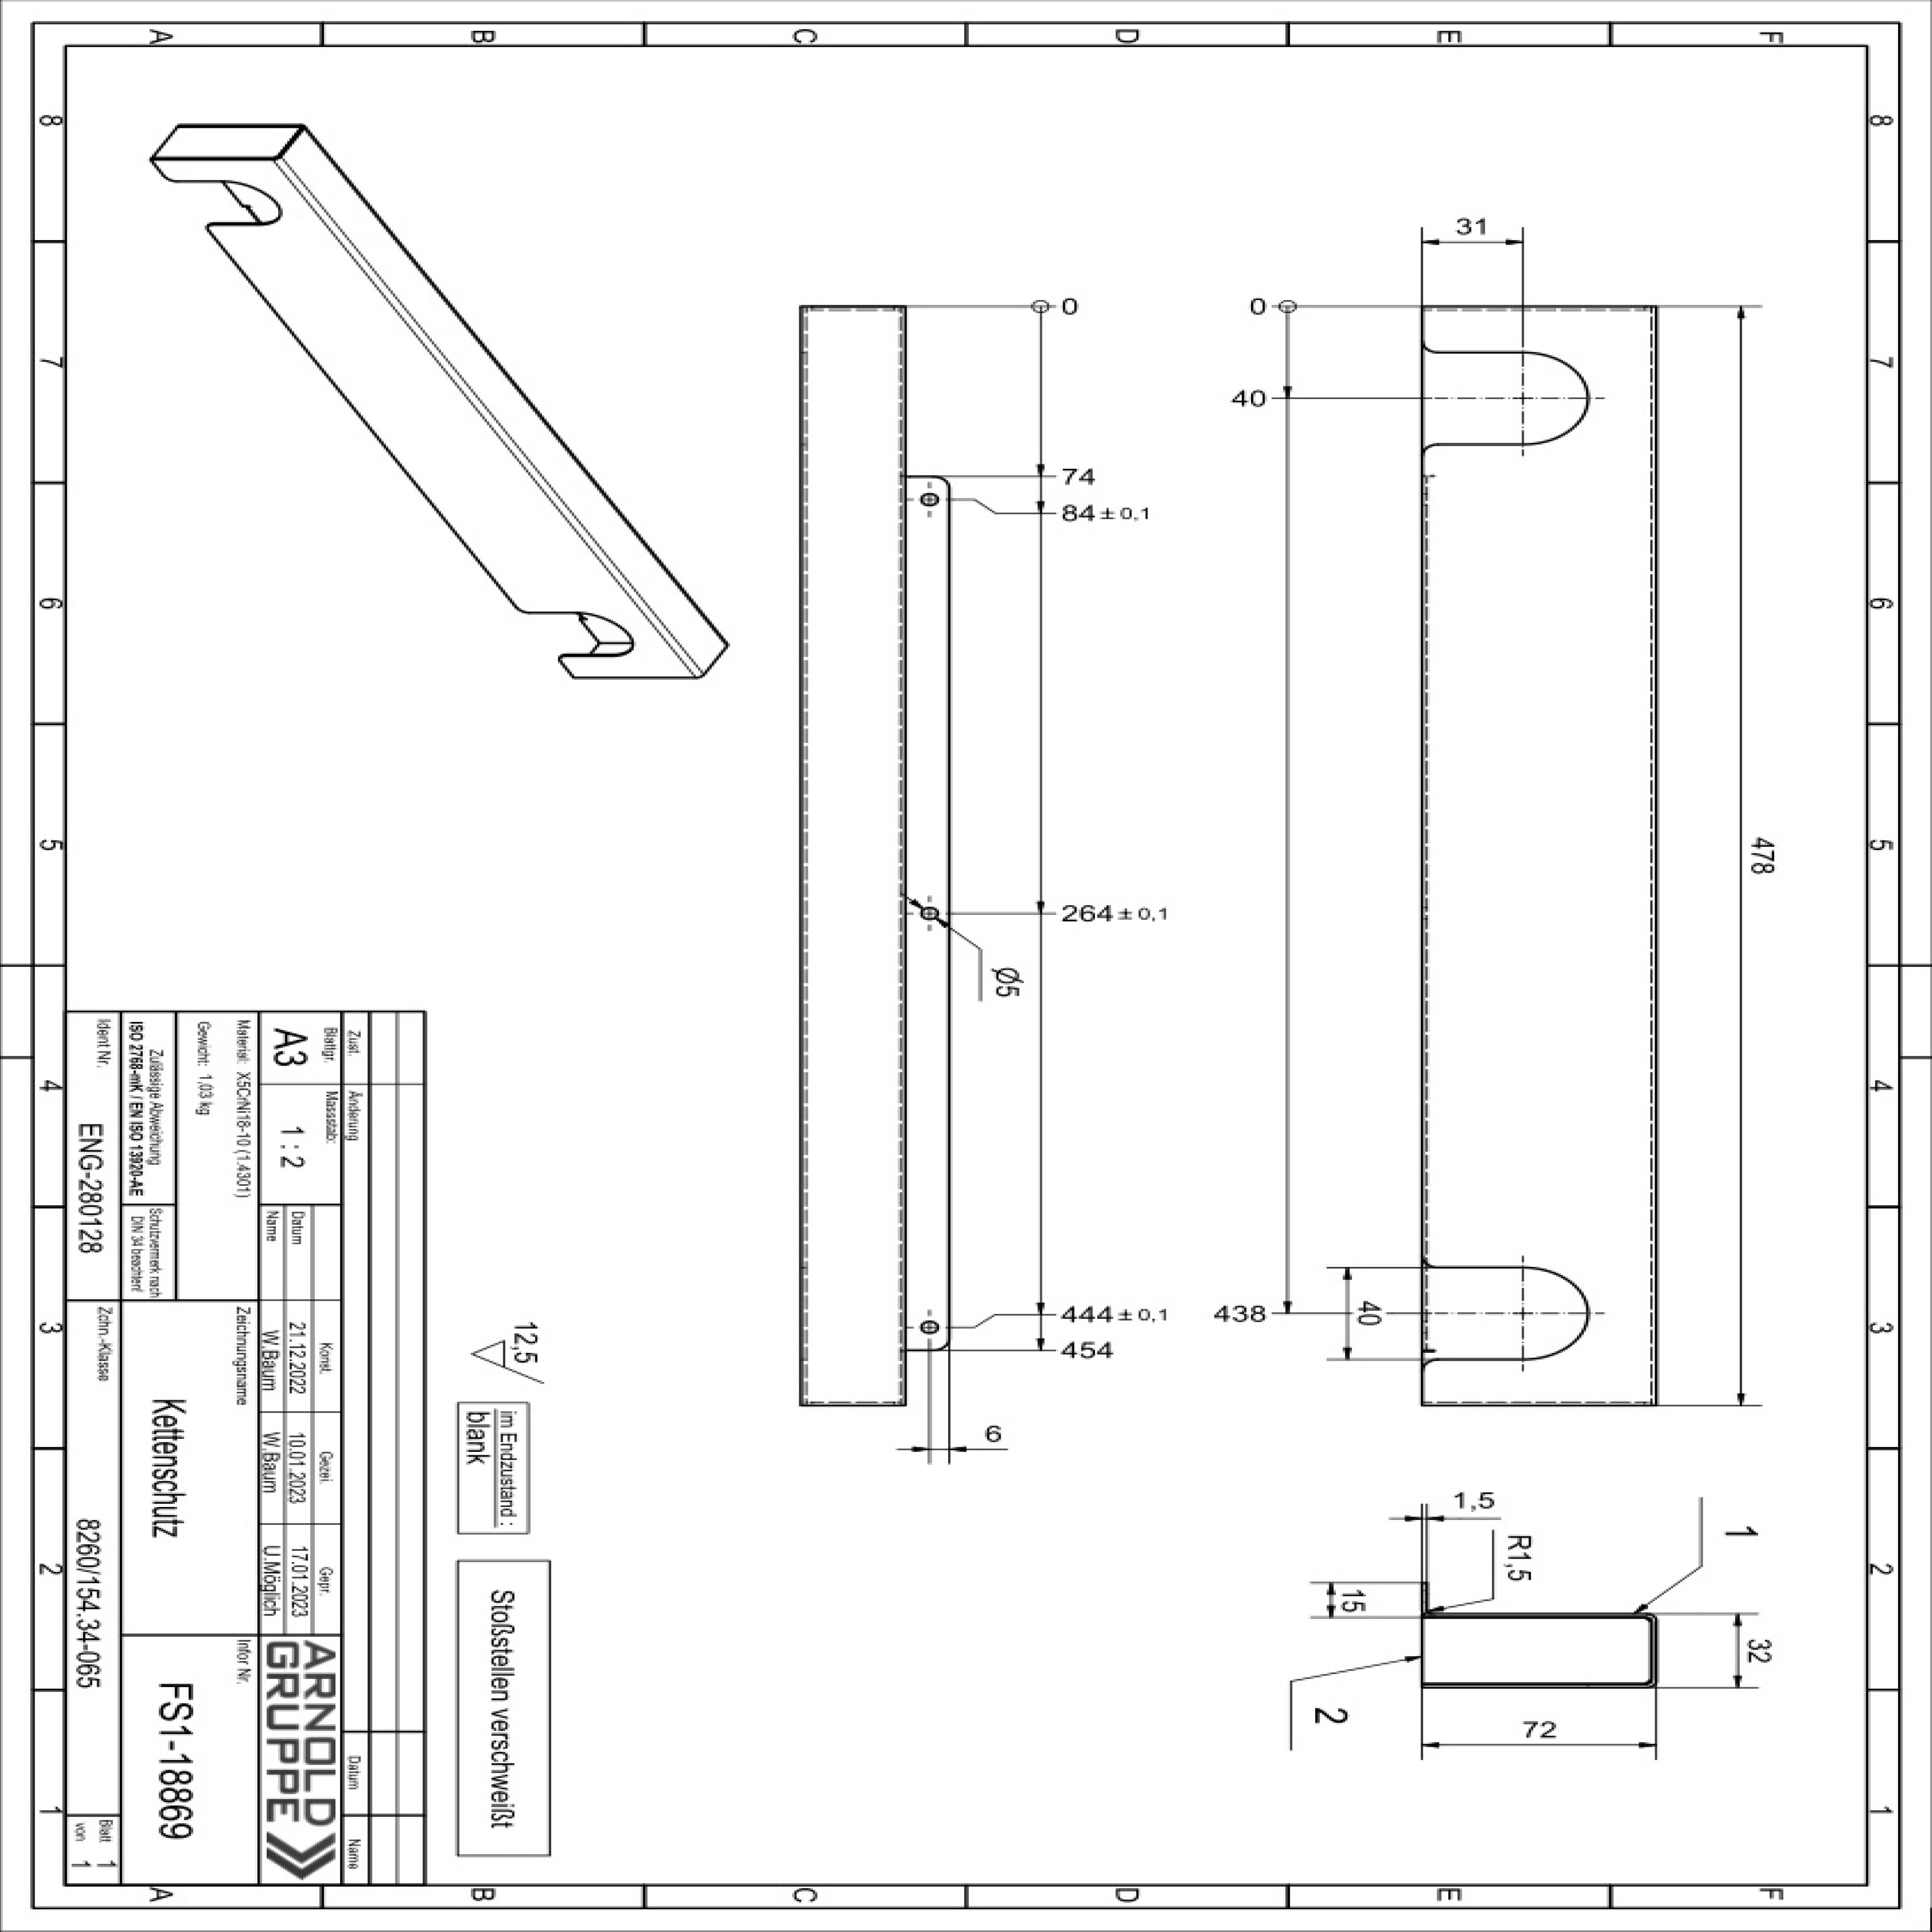InnerContour: (916, 489, 940, 511), (917, 1318, 938, 1336), (919, 905, 940, 921)
Notch: (1398, 319, 1606, 479), (1410, 1248, 1601, 1375)
